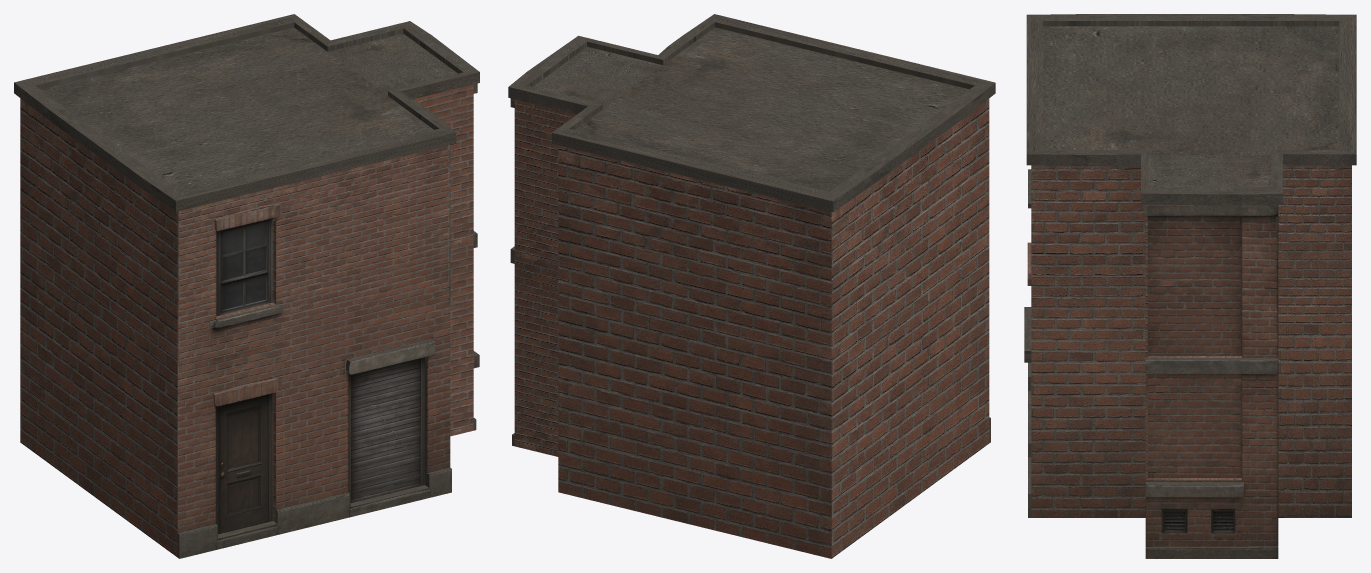
Rendered from testBuilding.gltf.
The picture shows the model from 3 angles, left to right: view 1: azimuth 30°, elevation 25°; view 2: azimuth 150°, elevation 25°; view 3: azimuth 270°, elevation 25°; orthographic projection.
Parts seen in each view (by area): view 1: House; view 2: House; view 3: House.
Boxes of the visible parts, x1,y1,x2,y2 form: House: [14, 14, 479, 558]; House: [508, 14, 995, 558]; House: [1024, 14, 1356, 558].
Size of the model in its own units: 6.67 by 6.3 by 5.18.
1 material, 1 textured.
